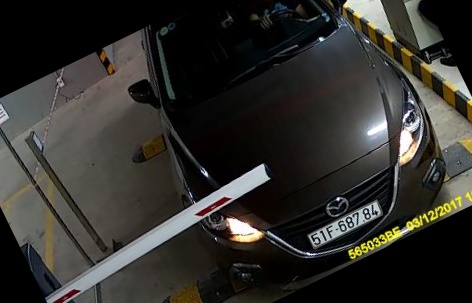plate: (301, 194, 387, 252)
